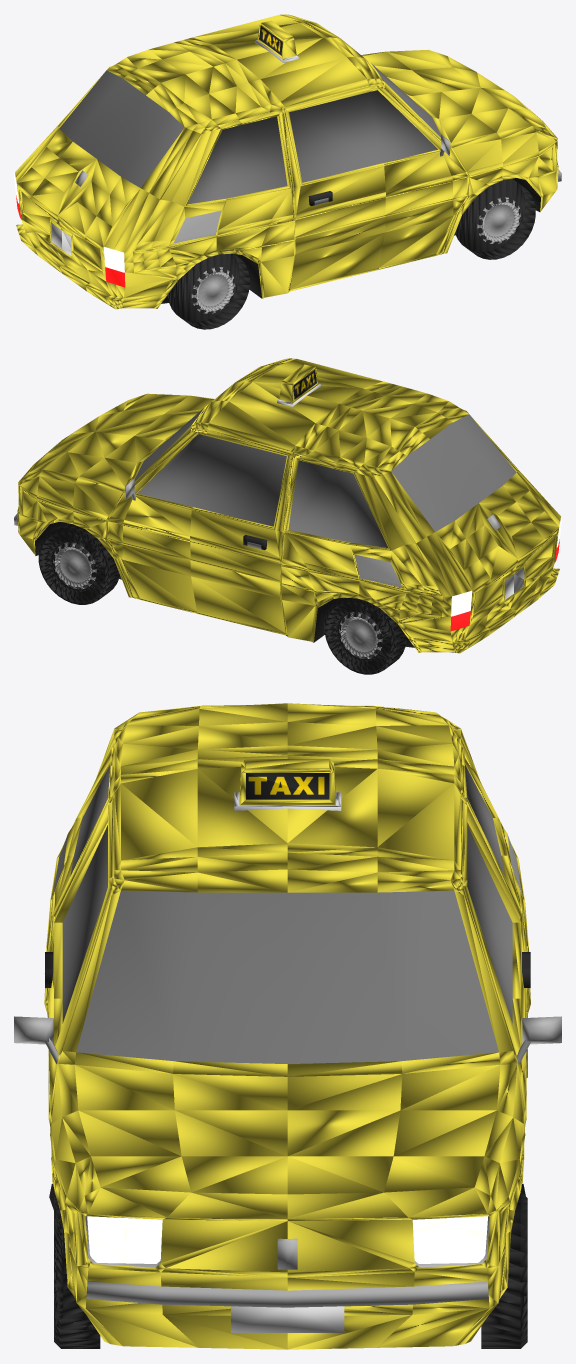
The model's file is fiut126p.fbx.
3 renders of one model, top to bottom at view 1: azimuth 30°, elevation 25°; view 2: azimuth 150°, elevation 25°; view 3: azimuth 270°, elevation 25°, orthographic. The views are drawn at different scales.
Visible parts, largest first — view 1: fiat_126p, _31_wheel_fr_003col, _31_wheel_br_006col, SchoolBus_003, _31_wheel_br_006; view 2: fiat_126p, _31_wheel_fl_005col, _31_wheel_bl_007col, SchoolBus_003, _31_wheel_bl_007; view 3: fiat_126p, SchoolBus_003, _31_wheel_fl_005, _31_wheel_fr_003.
Part boxes in pixels (x1,y1,x2,y2): fiat_126p: (14, 14, 561, 309); _31_wheel_fr_003col: (455, 178, 535, 259); _31_wheel_br_006col: (167, 253, 239, 329); SchoolBus_003: (255, 20, 298, 62); _31_wheel_br_006: (191, 254, 249, 324); fiat_126p: (14, 358, 561, 653); _31_wheel_fl_005col: (40, 525, 119, 604); _31_wheel_bl_007col: (324, 597, 396, 674); SchoolBus_003: (277, 364, 320, 406); _31_wheel_bl_007: (341, 612, 406, 668); fiat_126p: (14, 703, 561, 1349); SchoolBus_003: (234, 759, 341, 810); _31_wheel_fl_005: (481, 1202, 527, 1348); _31_wheel_fr_003: (54, 1196, 100, 1348).
Bounding box in the file's own units: 526 × 245 × 285.
